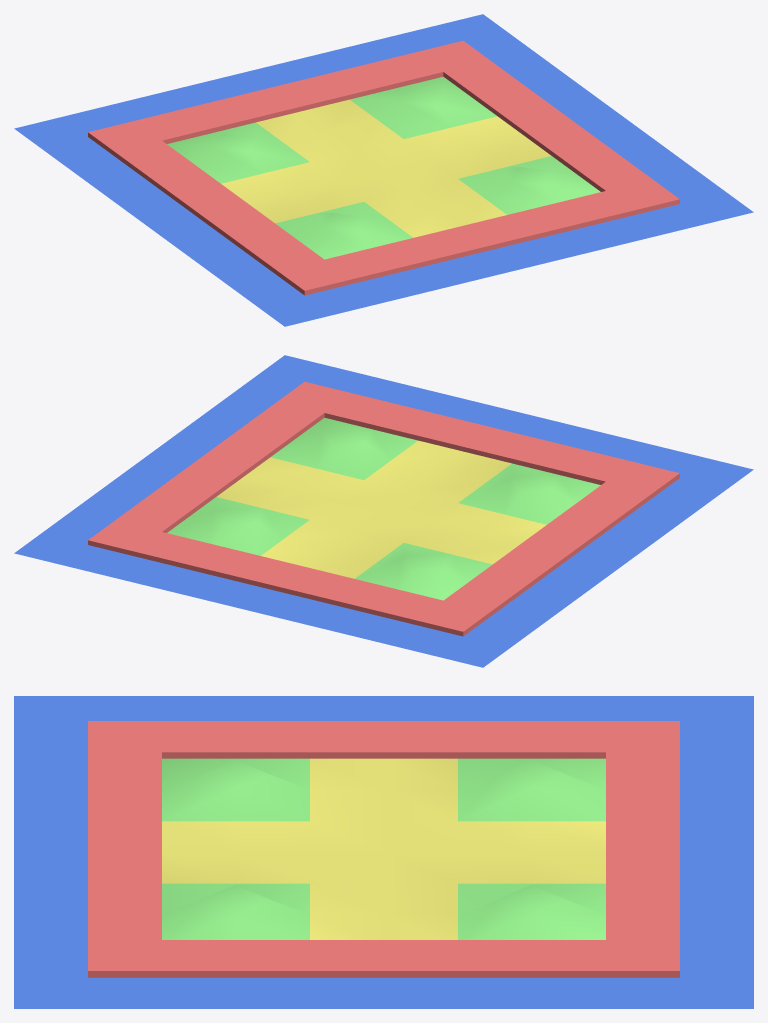
File: teststage.glb
3 views of the same model, one above another, from view 1: azimuth 30°, elevation 25°; view 2: azimuth 150°, elevation 25°; view 3: azimuth 270°, elevation 25° (orthographic). The views are drawn at different scales.
Visible parts, largest first — view 1: pPlane1; view 2: pPlane1; view 3: pPlane1.
Part boxes in pixels (<box>): pPlane1: <box>14,14,753,326</box>; pPlane1: <box>14,355,753,667</box>; pPlane1: <box>14,696,753,1008</box>.
Size of the model in its own units: 0.24 by 0.00552 by 0.24.
